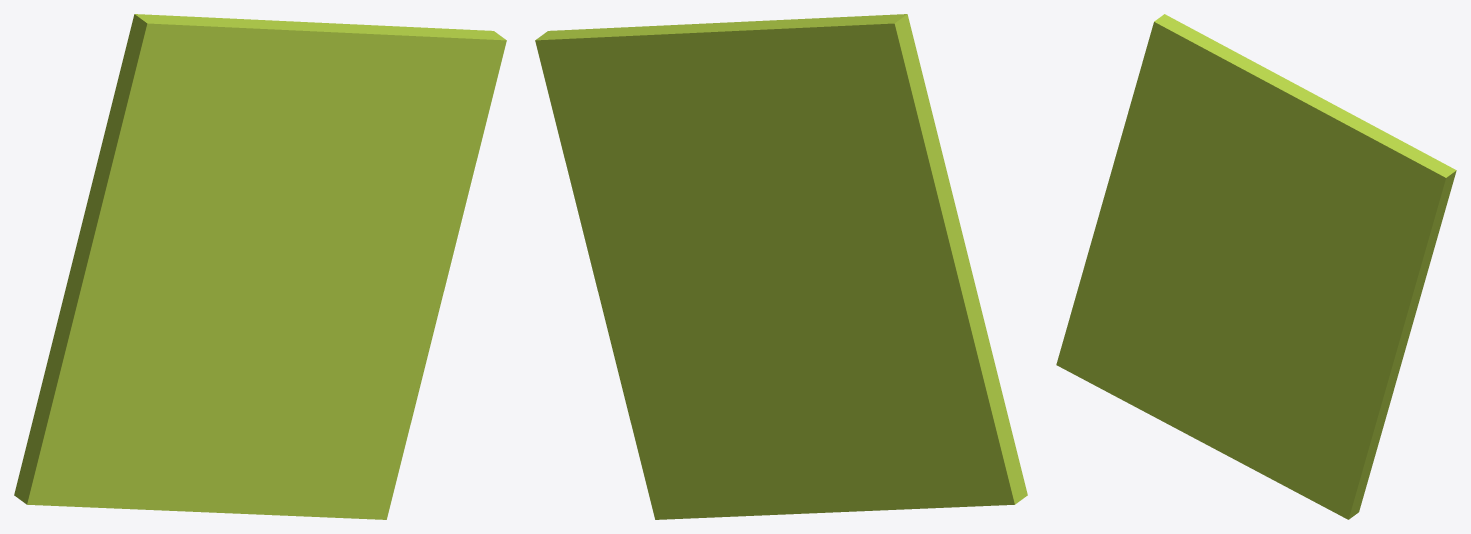
3 views of the same model, side by side, from view 1: azimuth 30°, elevation 25°; view 2: azimuth 150°, elevation 25°; view 3: azimuth 330°, elevation 25° (orthographic). The views are drawn at different scales.
Visible parts, largest first — view 1: osm-way27917482-F1; view 2: osm-way27917482-F1; view 3: osm-way27917482-F1.
Part boxes in pixels (x1=…): osm-way27917482-F1: x1=14, y1=14, x2=506, y2=519; osm-way27917482-F1: x1=535, y1=14, x2=1027, y2=519; osm-way27917482-F1: x1=1056, y1=14, x2=1456, y2=519.
Bounding box in the file's own units: 3.2 × 3.54 × 0.15.
